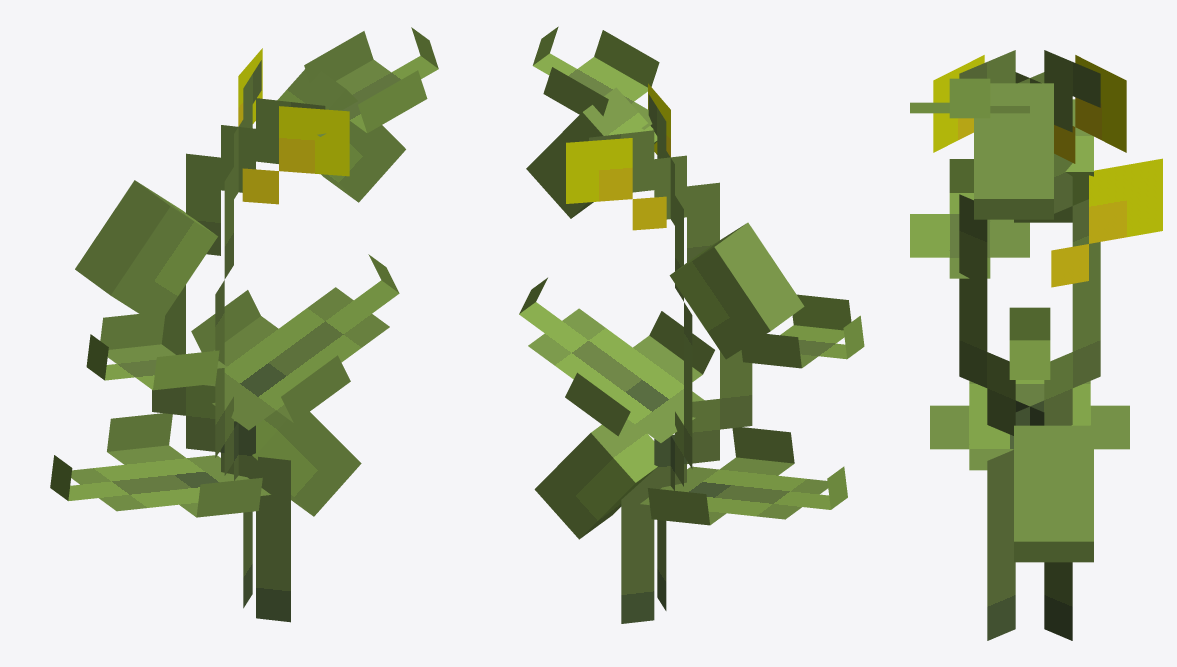
The model's file is cucumber-stage3.gltf.
The picture shows the model from 3 angles, left to right: view 1: azimuth 30°, elevation 25°; view 2: azimuth 150°, elevation 25°; view 3: azimuth 270°, elevation 25°; orthographic projection. The views are drawn at different scales.
Parts seen in each view (by area): view 1: cube; view 2: cube; view 3: cube.
Boxes of the visible parts, box(x1,y1,x2,y2) form: cube: box(50, 27, 438, 622); cube: box(519, 26, 864, 623); cube: box(910, 50, 1162, 640).
Size of the model in its own units: 0.691 by 1.09 by 0.3954.
Materials: 1 (1 with a texture image).
